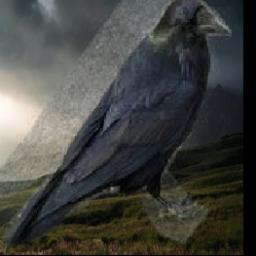Crow: (0, 0, 232, 252)
